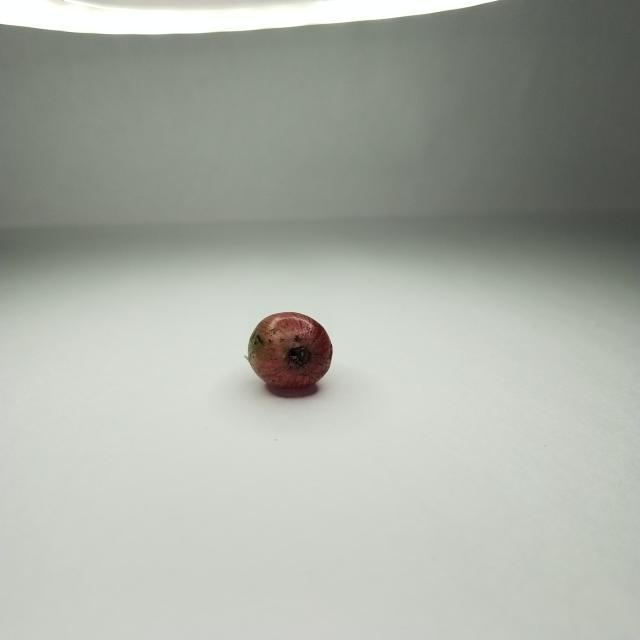Infectado: (248, 312, 334, 386)
